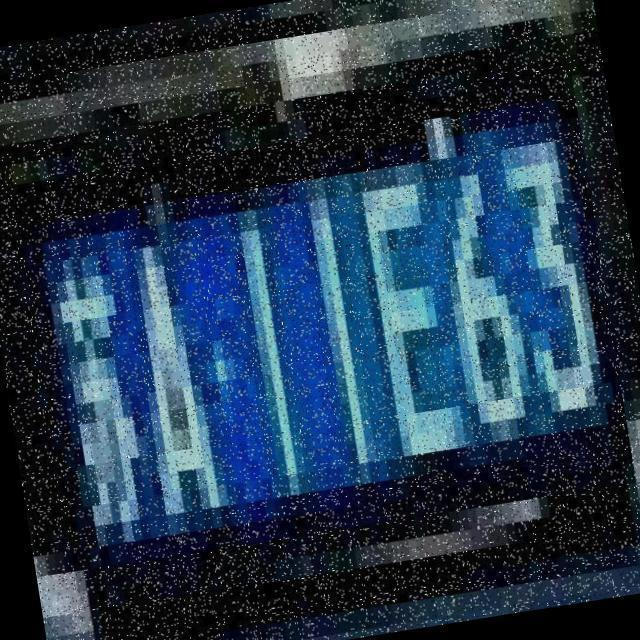License Plate: (1, 64, 640, 640)
